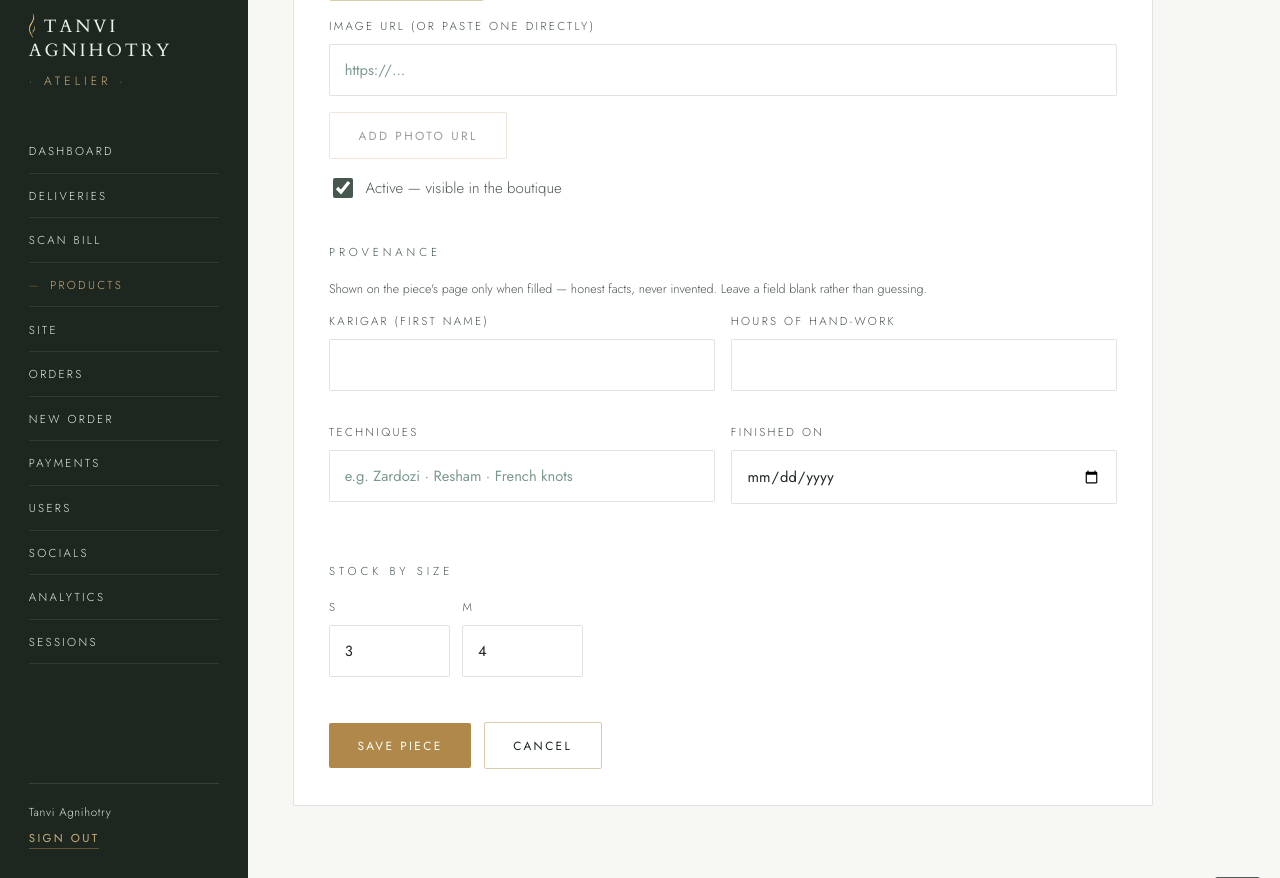
it: ProductEdit › PUTs the piece and PATCHes only changed variants when editing
(page scrolled)
Replace the text in the number field labelled "M" with "9" at (523, 651), box 462,625 -> 583,677
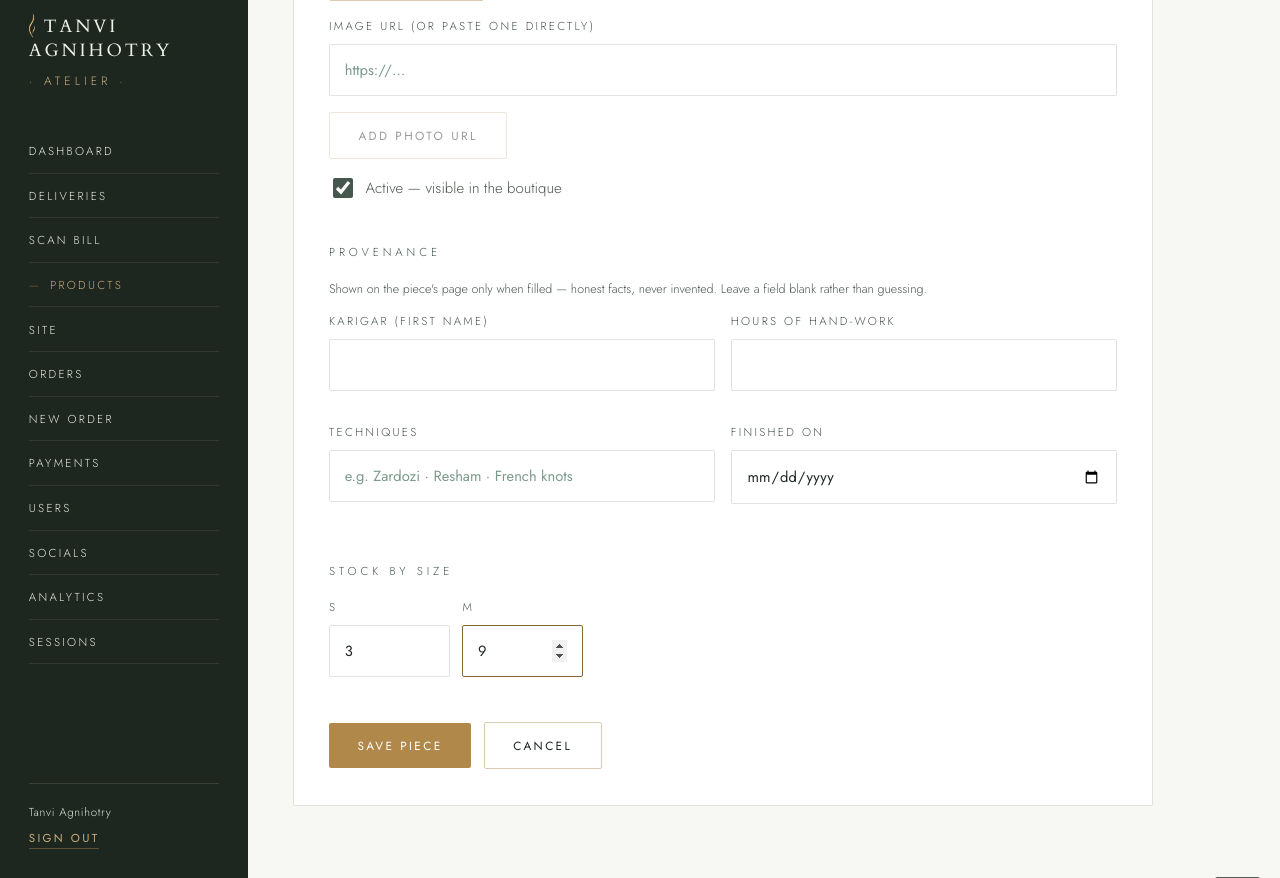
Click the button "Save Piece" at (400, 746), box 329,723 -> 471,768
(page scrolled)
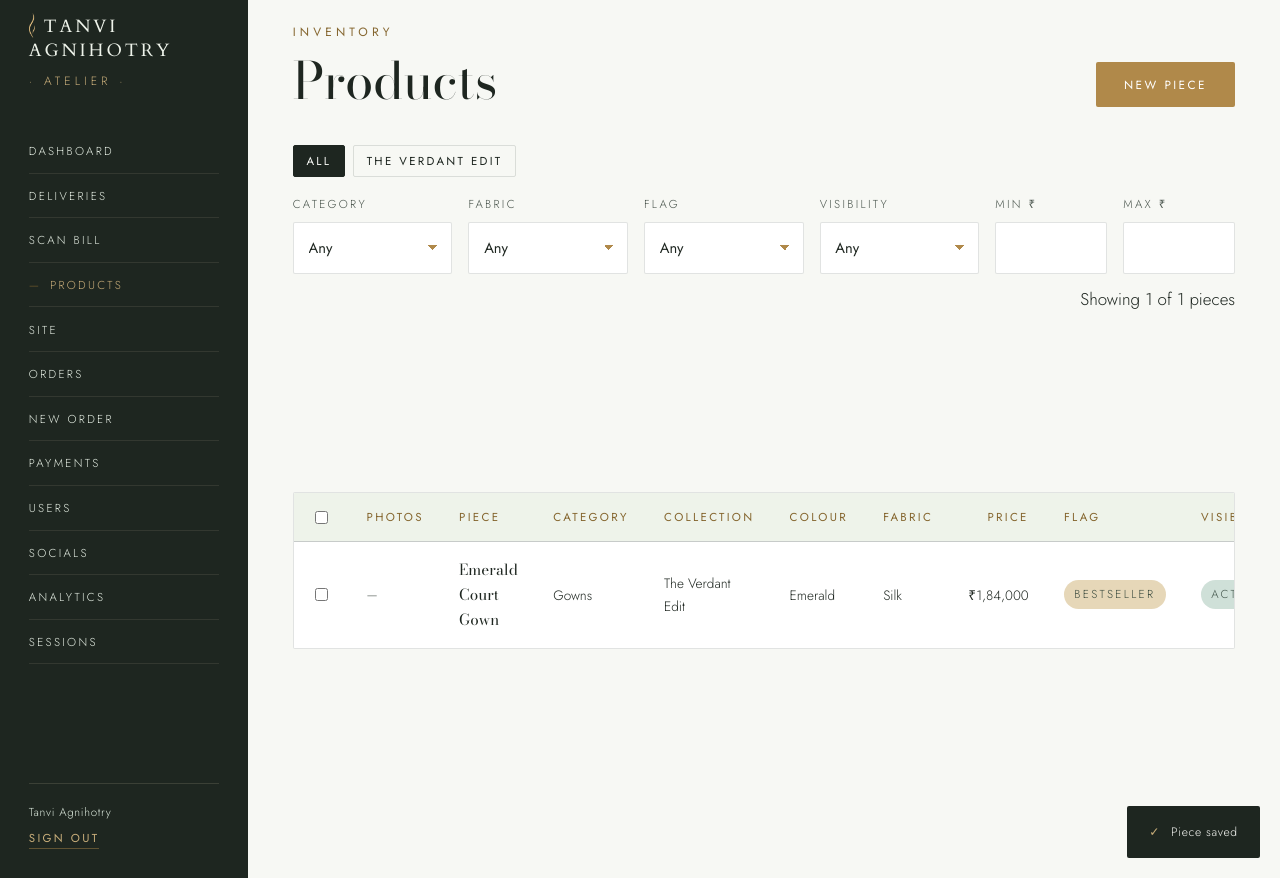
Now the heading "Products" is shown, box 293,54 -> 497,107
